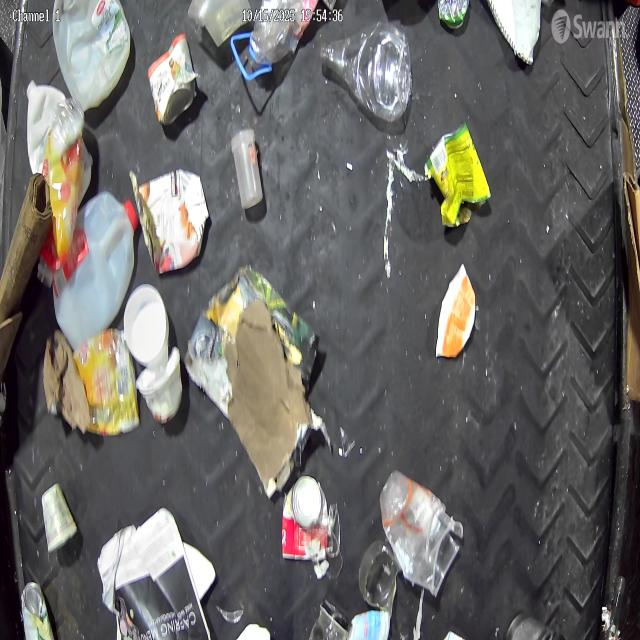can: (148, 32, 198, 130), (282, 467, 324, 562), (13, 578, 62, 625)
milk_jug: (48, 180, 138, 344), (19, 72, 96, 215), (52, 0, 135, 116)
plastic_bottle: (228, 0, 320, 88)
